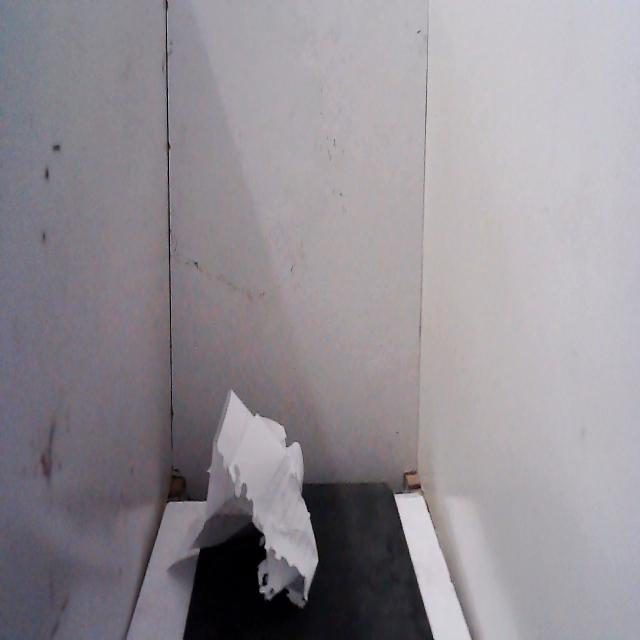papel: (164, 381, 322, 618)
